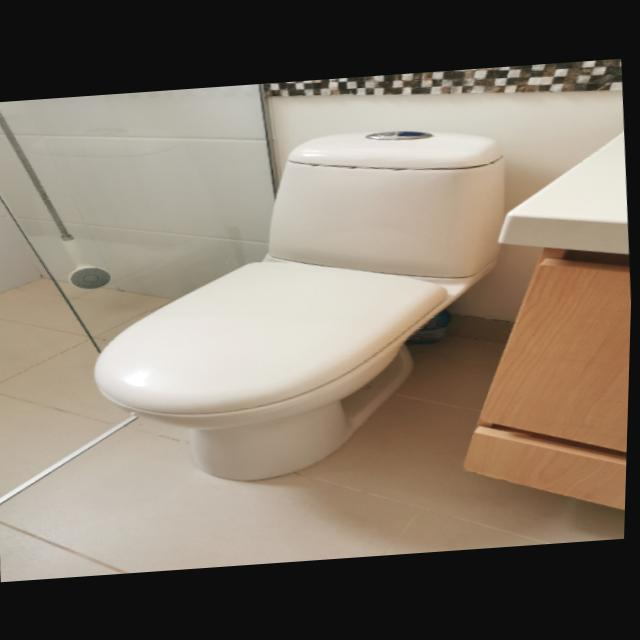toilet: (75, 121, 527, 492)
